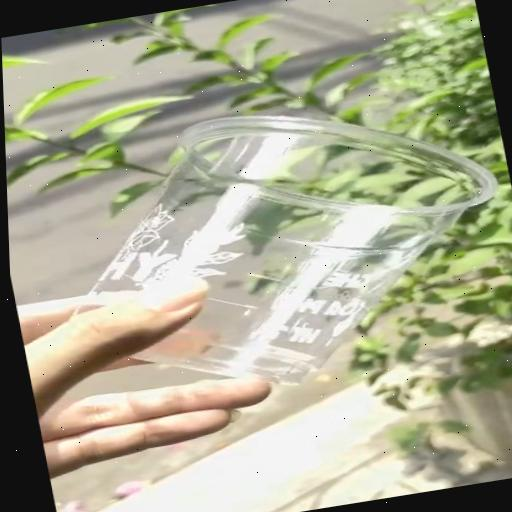ly_giay: (91, 116, 495, 381)
